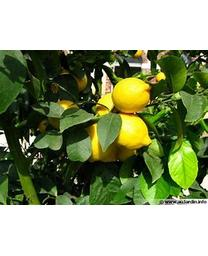lemon: (112, 111, 151, 151), (112, 78, 150, 113), (84, 122, 116, 162)
